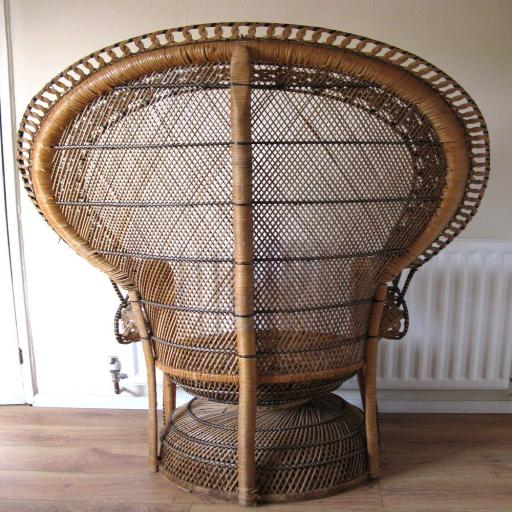chair: (16, 22, 490, 507)
wall: (2, 0, 512, 413)
